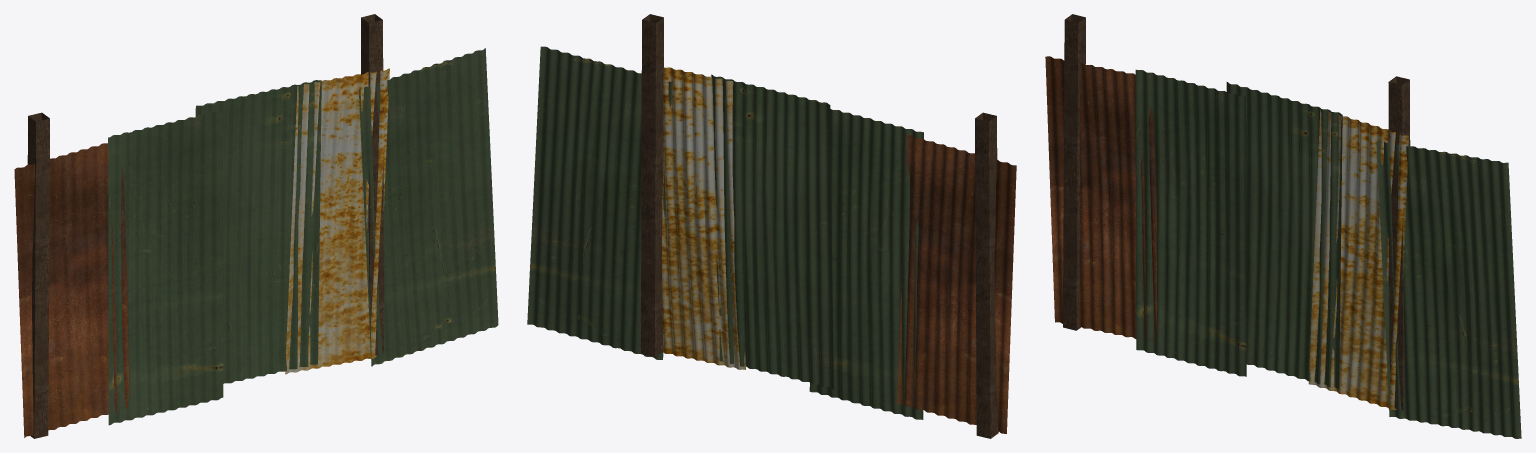
The model's file is sac_cit_a.gltf.
3 views of the same model, side by side, from view 1: azimuth 30°, elevation 25°; view 2: azimuth 150°, elevation 25°; view 3: azimuth 330°, elevation 25° (orthographic). The views are drawn at different scales.
Visible parts, largest first — view 1: sac_cit_a; view 2: sac_cit_a; view 3: sac_cit_a.
Boxes of the visible parts, x1,y1,x2,y2 form: sac_cit_a: (14, 14, 498, 438); sac_cit_a: (527, 14, 1016, 438); sac_cit_a: (1045, 14, 1521, 438).
Size of what is drawn, in the model's own units: 3.48 by 2.35 by 0.1152.
4 materials, 4 textured.
